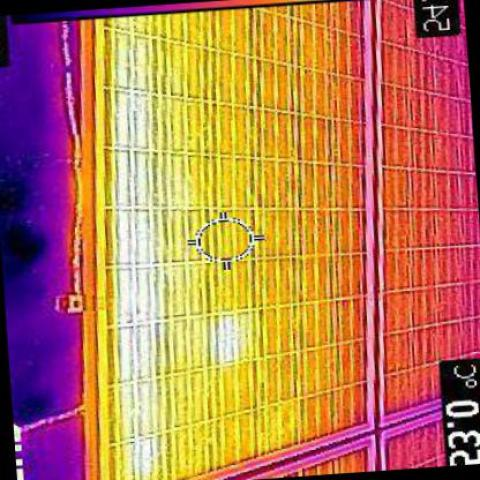fault: (112, 50, 165, 461), (215, 314, 247, 358)
